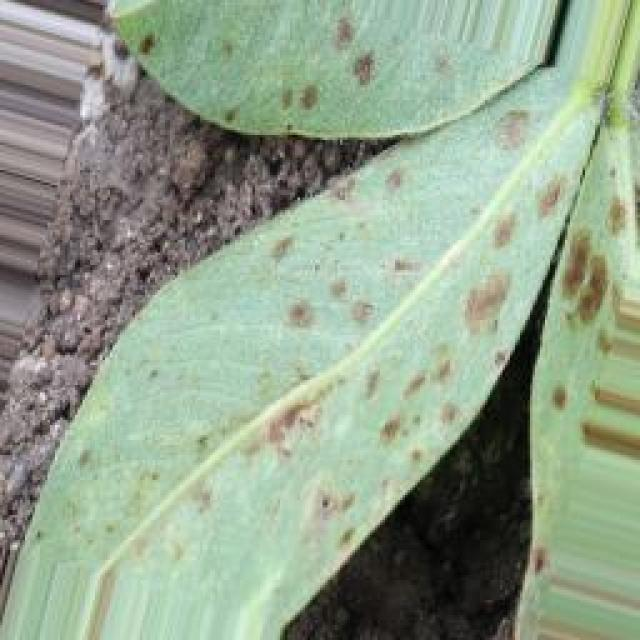Whitefly: (83, 8, 622, 598)
